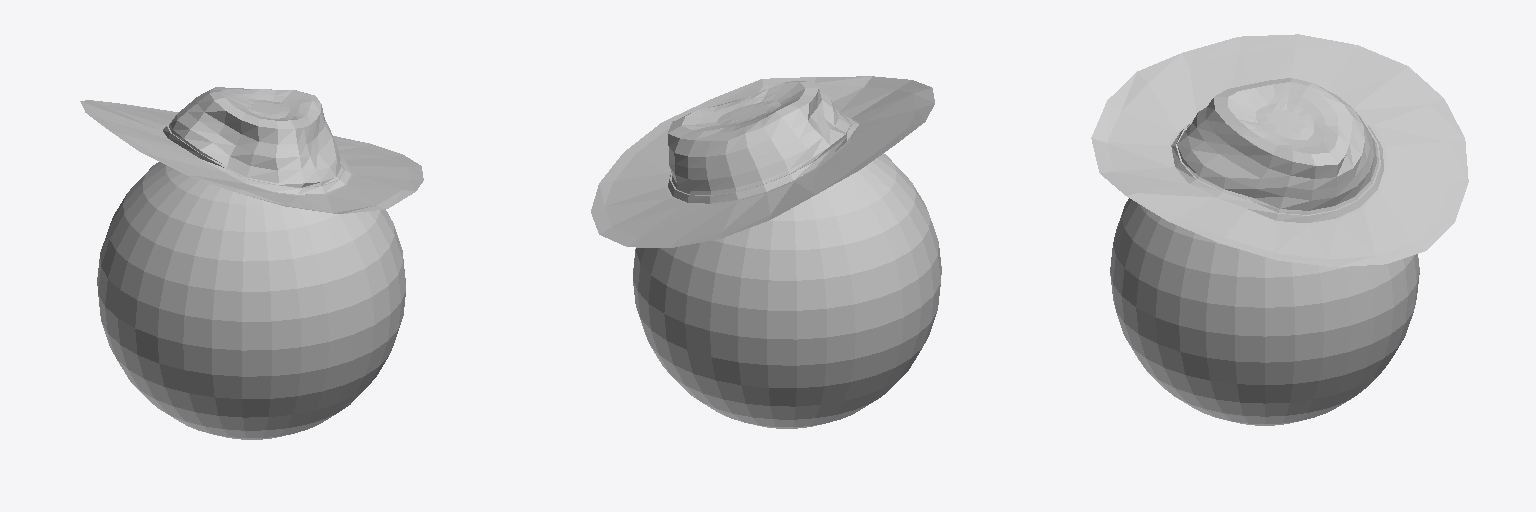
The model's file is gordi.obj.
The picture shows the model from 3 angles: view 1: azimuth 30°, elevation 25°; view 2: azimuth 150°, elevation 25°; view 3: azimuth 270°, elevation 25°; orthographic projection.
Parts seen in each view (by area): view 1: Sancho_panza_Sphere; view 2: Sancho_panza_Sphere; view 3: Sancho_panza_Sphere.
Boxes of the visible parts, box(x1,y1,x2,y2) form: Sancho_panza_Sphere: box(80, 87, 423, 439); Sancho_panza_Sphere: box(591, 76, 941, 428); Sancho_panza_Sphere: box(1091, 34, 1468, 425).
Bounding box in the file's own units: 2.18 × 2.3 × 2.44.